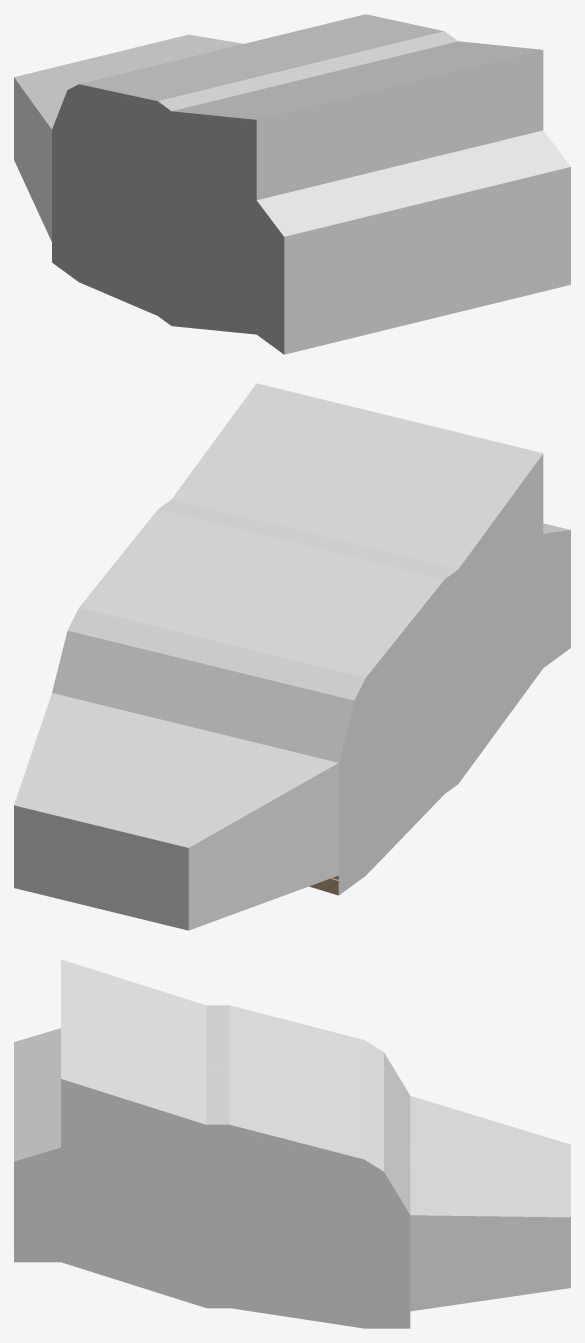
The model's file is hall_kari1.fbx.
The picture shows the model from 3 angles, top to bottom: view 1: azimuth 30°, elevation 25°; view 2: azimuth 150°, elevation 25°; view 3: azimuth 270°, elevation 25°; orthographic projection. The views are drawn at different scales.
Visible parts, largest first — view 1: hall; view 2: hall; view 3: hall.
Part boxes in pixels (x1=…): hall: x1=14, y1=14, x2=570, y2=354; hall: x1=14, y1=383, x2=570, y2=930; hall: x1=14, y1=959, x2=570, y2=1328.
Bounding box in the file's own units: 2013 × 1962 × 3967.
